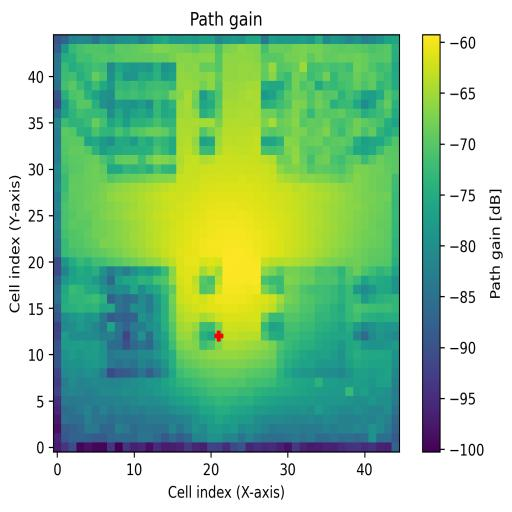Concrete: (277, 62, 353, 173)
Glass: (106, 63, 176, 173)
Metal: (284, 265, 347, 381)
Wood: (99, 266, 176, 380)
